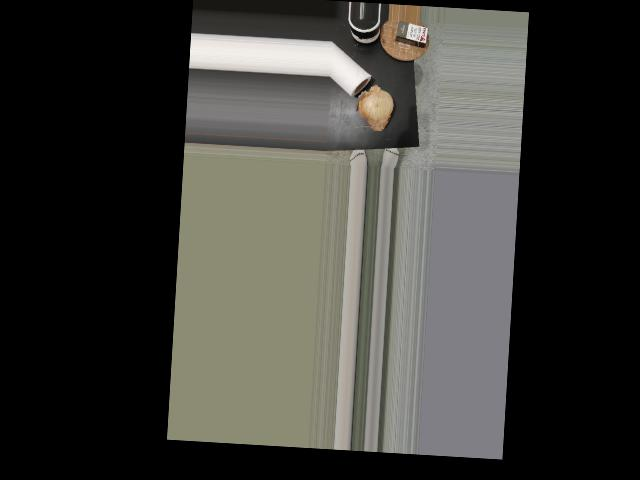onion: (359, 84, 396, 130)
